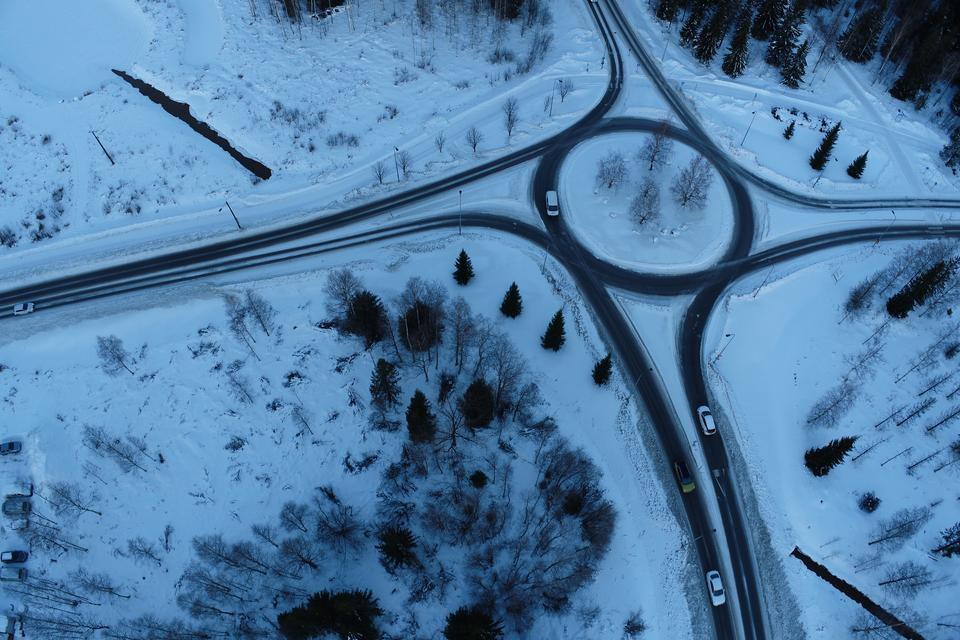intersection: (910, 174, 955, 254), (585, 65, 694, 97)
roundabout: (496, 99, 795, 323)
